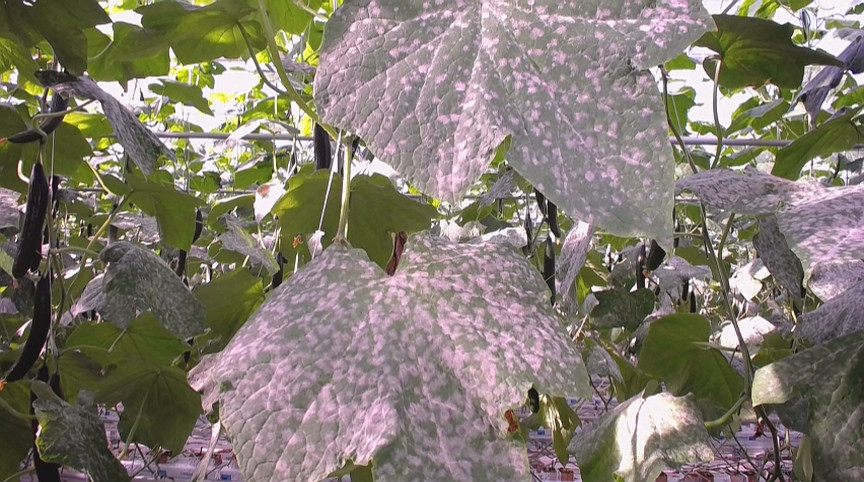cucumber: (5, 278, 51, 382), (12, 163, 46, 276), (9, 92, 70, 142)
